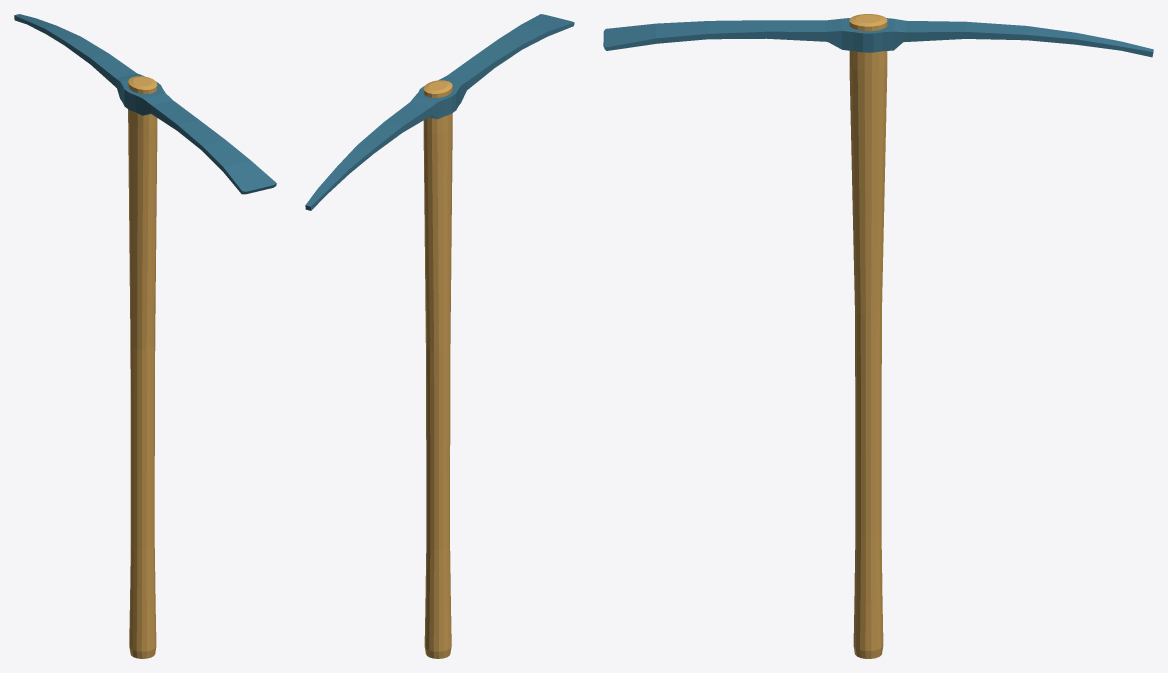
Rendered from hyperPickaxe.gltf.
3 renders of one model, left to right at view 1: azimuth 30°, elevation 25°; view 2: azimuth 150°, elevation 25°; view 3: azimuth 270°, elevation 25°, orthographic. The views are drawn at different scales.
Visible parts, largest first — view 1: Circle, Circle.001; view 2: Circle, Circle.001; view 3: Circle, Circle.001.
Part boxes in pixels (<box>): Circle: <box>128,76,157,658</box>; Circle.001: <box>14,14,276,194</box>; Circle: <box>423,80,452,658</box>; Circle.001: <box>305,14,574,210</box>; Circle: <box>849,14,887,658</box>; Circle.001: <box>603,18,1153,57</box>.
Size of the model in its own units: 0.2984 by 4.68 by 3.67.
